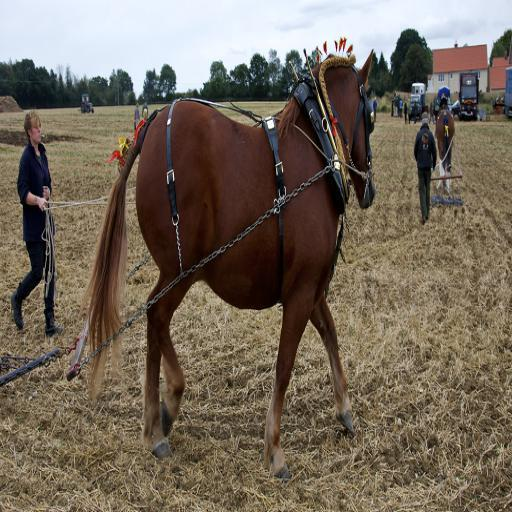horse: (75, 49, 375, 478), (436, 91, 456, 187)
